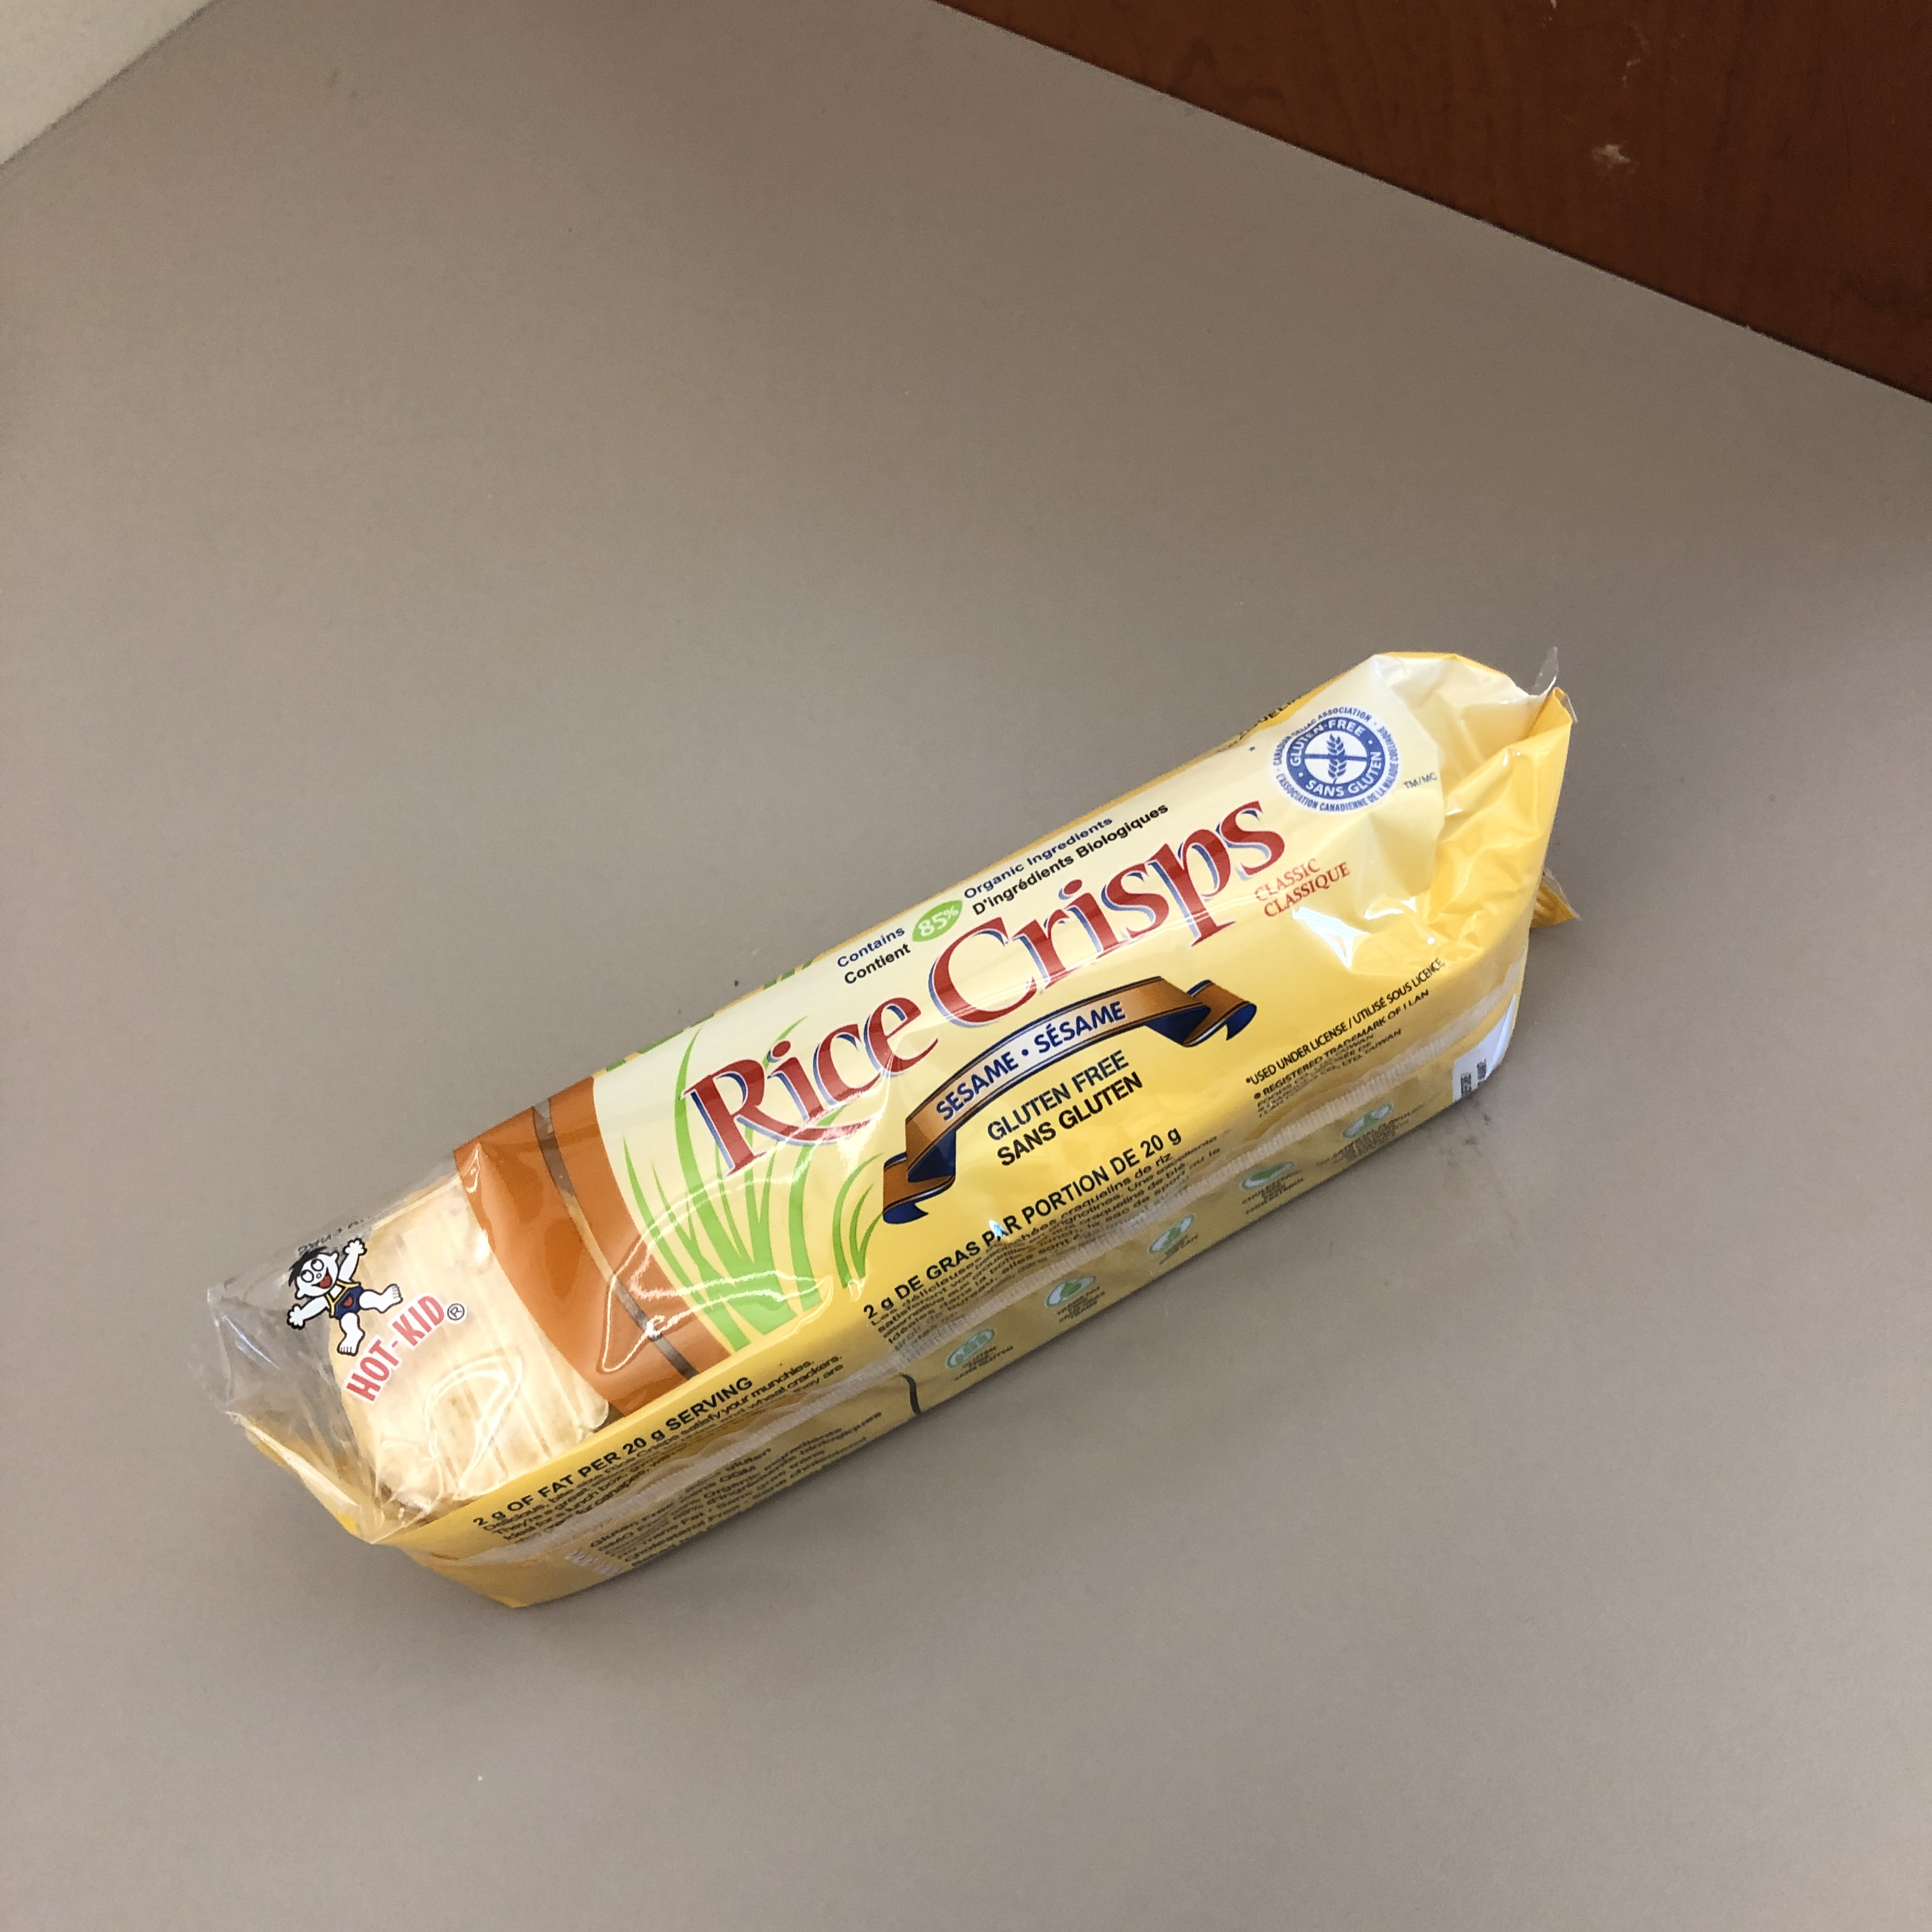hot_kid_rice_crisps_sesame: (671, 384, 1599, 1611)
